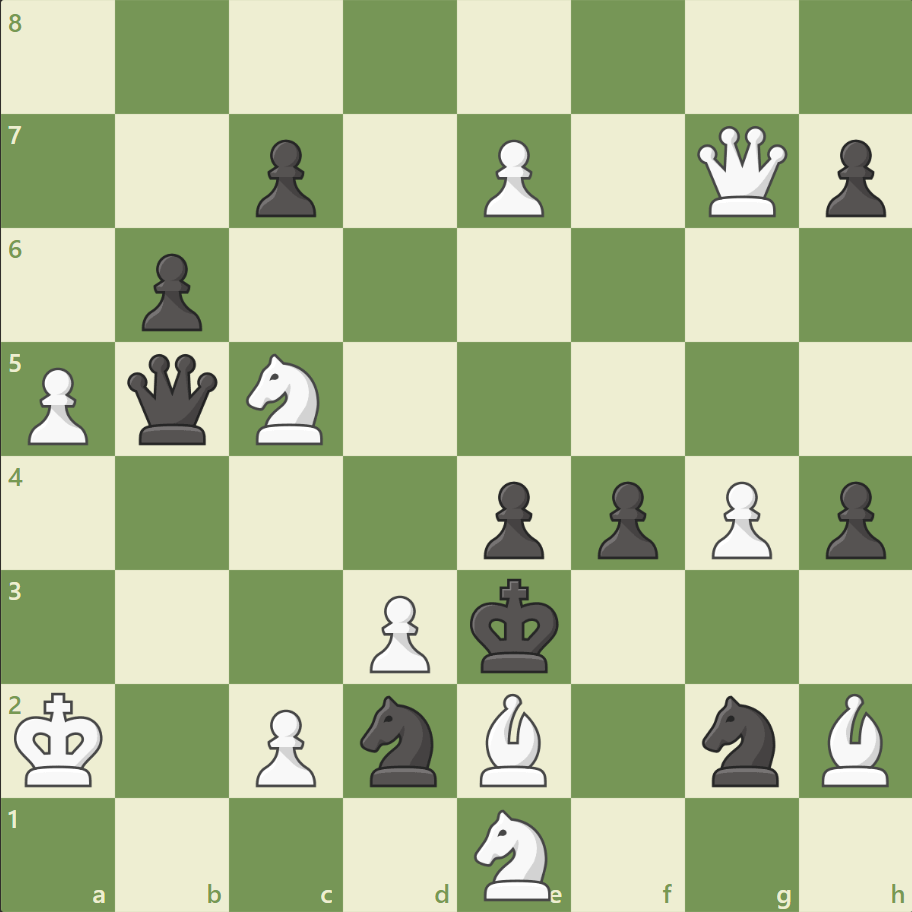B: (471, 687, 555, 790), (812, 687, 896, 790)
K: (11, 685, 111, 793)
N: (238, 348, 335, 450), (465, 802, 562, 904)
P: (474, 132, 549, 223), (20, 359, 95, 450), (701, 473, 776, 564), (247, 700, 322, 791), (361, 586, 435, 677)
Q: (691, 122, 790, 222)
k: (465, 571, 565, 679)
n: (351, 688, 449, 791), (692, 688, 789, 791)
p: (247, 132, 322, 223), (133, 246, 208, 337), (474, 473, 549, 564), (815, 132, 889, 223), (588, 473, 662, 564), (815, 473, 889, 564)
q: (124, 349, 223, 449)
